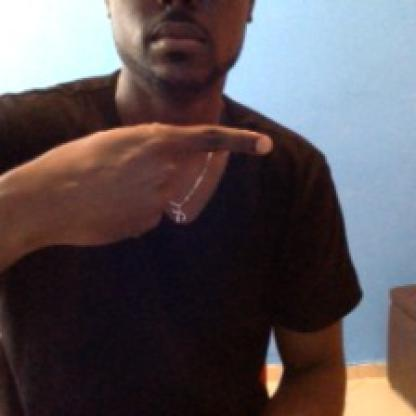TURN LEFT: (5, 119, 283, 249)
